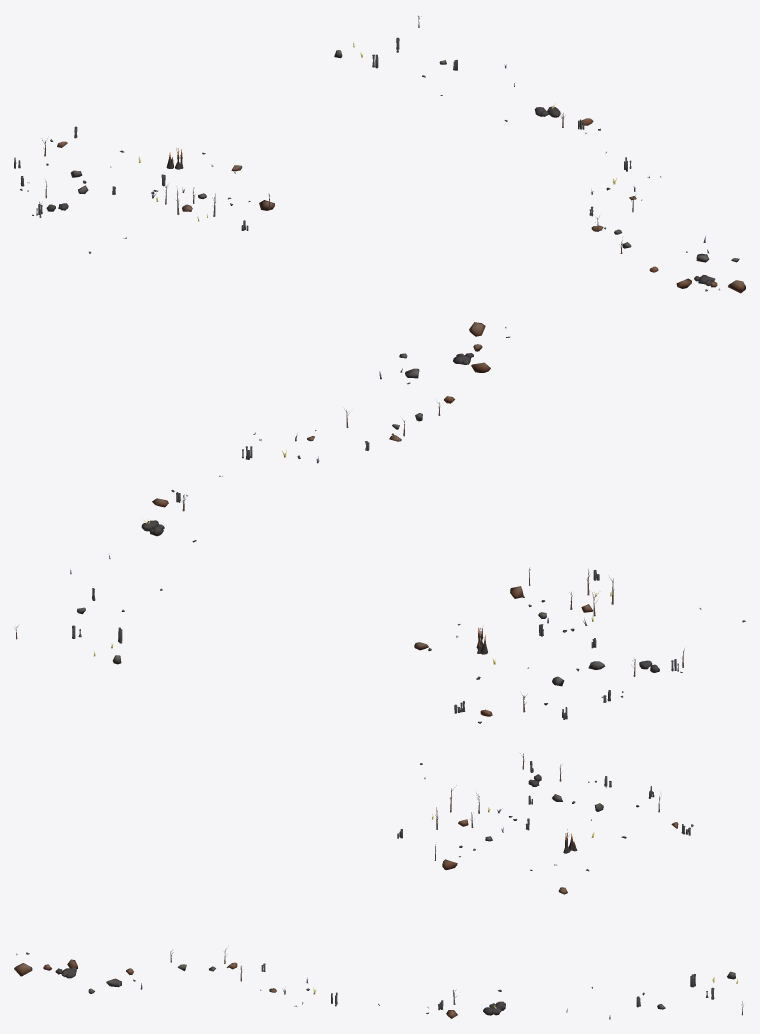
File: ash_land_scatter_c20_30.glb
3 views of the same model, one above another, from view 1: azimuth 30°, elevation 25°; view 2: azimuth 150°, elevation 25°; view 3: azimuth 270°, elevation 25° (orthographic). The views are drawn at different scales.
Parts seen in each view (by area): view 1: ash_land_scatter_c20_30; view 2: ash_land_scatter_c20_30; view 3: ash_land_scatter_c20_30.
Part boxes in pixels (box(x1,y1,x2,y2)): ash_land_scatter_c20_30: box(14, 16, 745, 293); ash_land_scatter_c20_30: box(14, 322, 745, 723); ash_land_scatter_c20_30: box(14, 753, 743, 1019).
Size of the model in its own units: 205 by 20.56 by 256.
